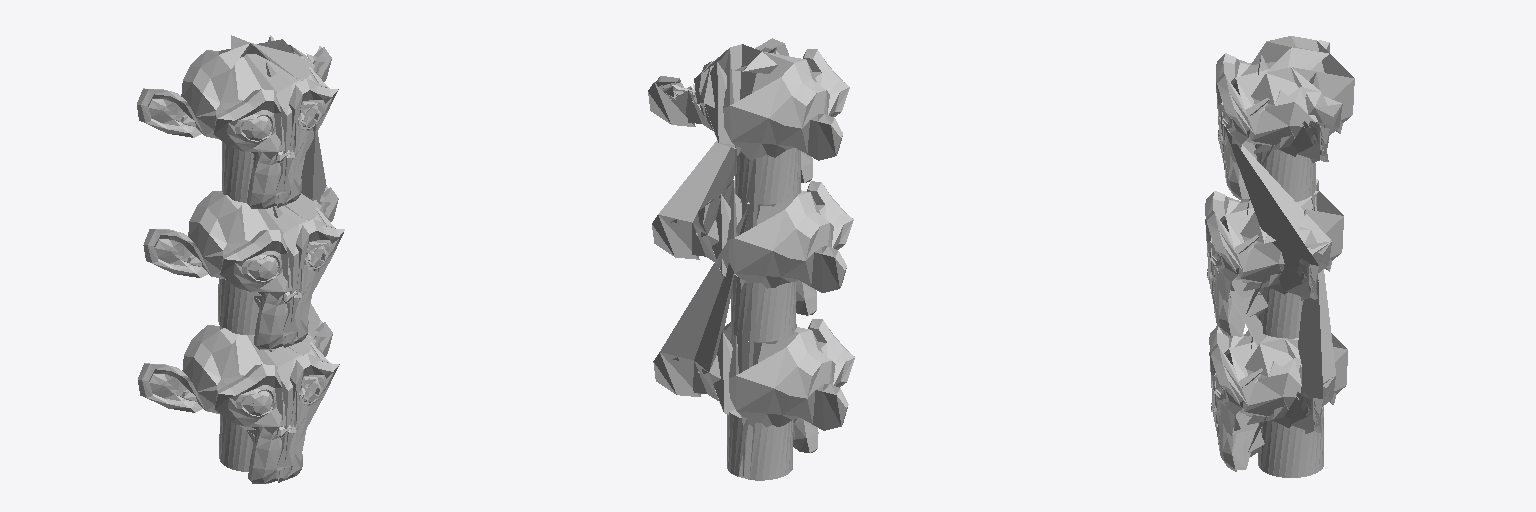
The picture shows the model from 3 angles: view 1: azimuth 30°, elevation 25°; view 2: azimuth 150°, elevation 25°; view 3: azimuth 270°, elevation 25°; orthographic projection.
Parts seen in each view (by area): view 1: Suzanne; view 2: Suzanne; view 3: Suzanne.
Boxes of the visible parts, x1,y1,x2,y2 form: Suzanne: [137, 35, 344, 483]; Suzanne: [648, 38, 854, 480]; Suzanne: [1205, 36, 1354, 477].
Bounding box in the file's own units: 2.79 × 5.64 × 1.83.